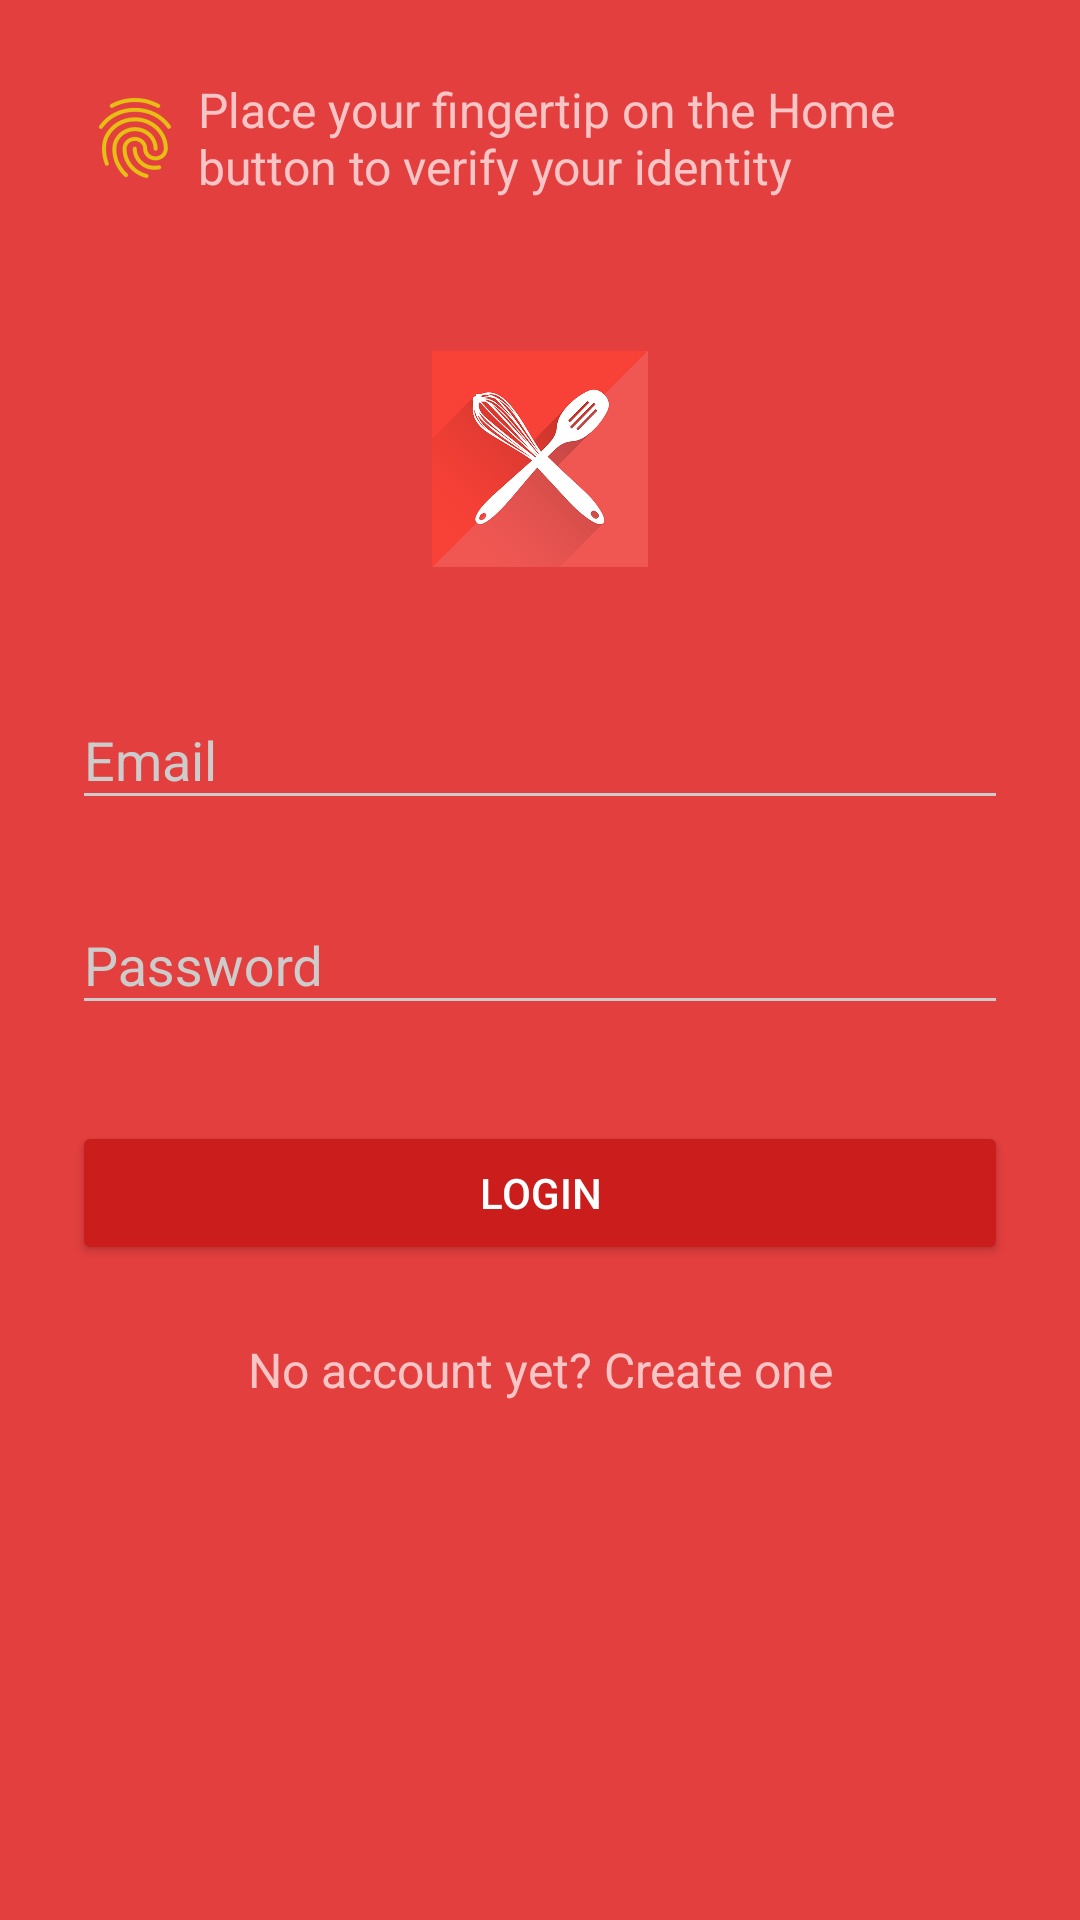

Point at icon controls on the screen. Image size 1080 × 1920, points as [x,y].
fingerprint: [135,138]
